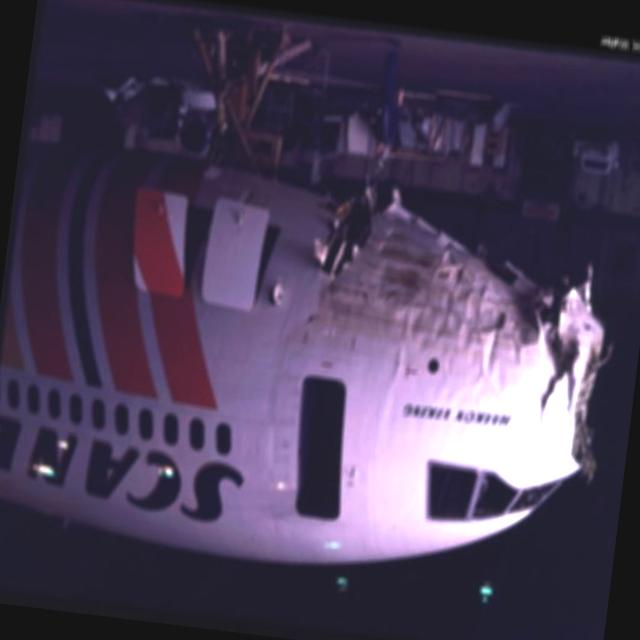crack: (533, 348, 580, 428), (318, 274, 350, 342)
dent: (355, 210, 545, 400)
